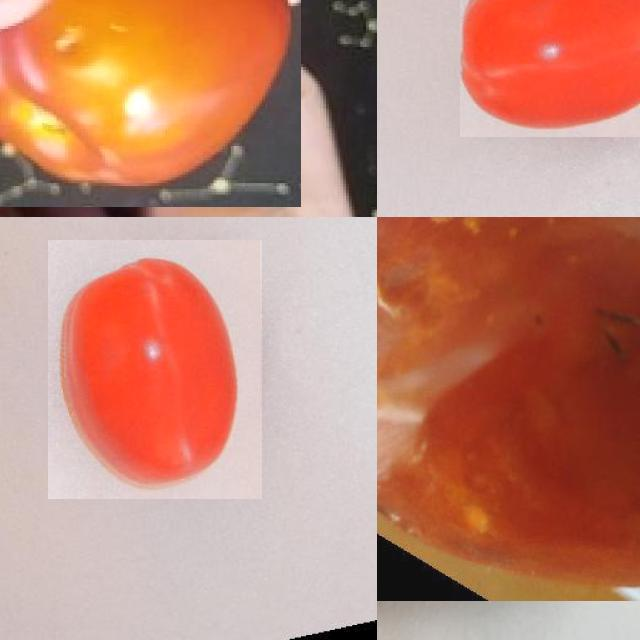Fresh Tomato: (0, 0, 300, 207), (49, 240, 262, 499), (460, 0, 640, 137)
Rotten Tomato: (377, 217, 640, 601)
